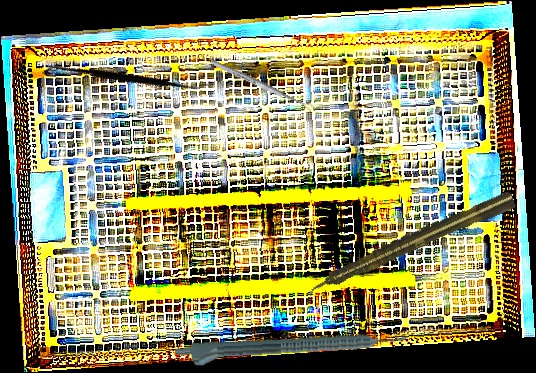Handpiece: (302, 188, 518, 301), (174, 330, 407, 370)
Spatula Surgical: (40, 9, 210, 149)
Surgical Spoon: (209, 58, 314, 112)
